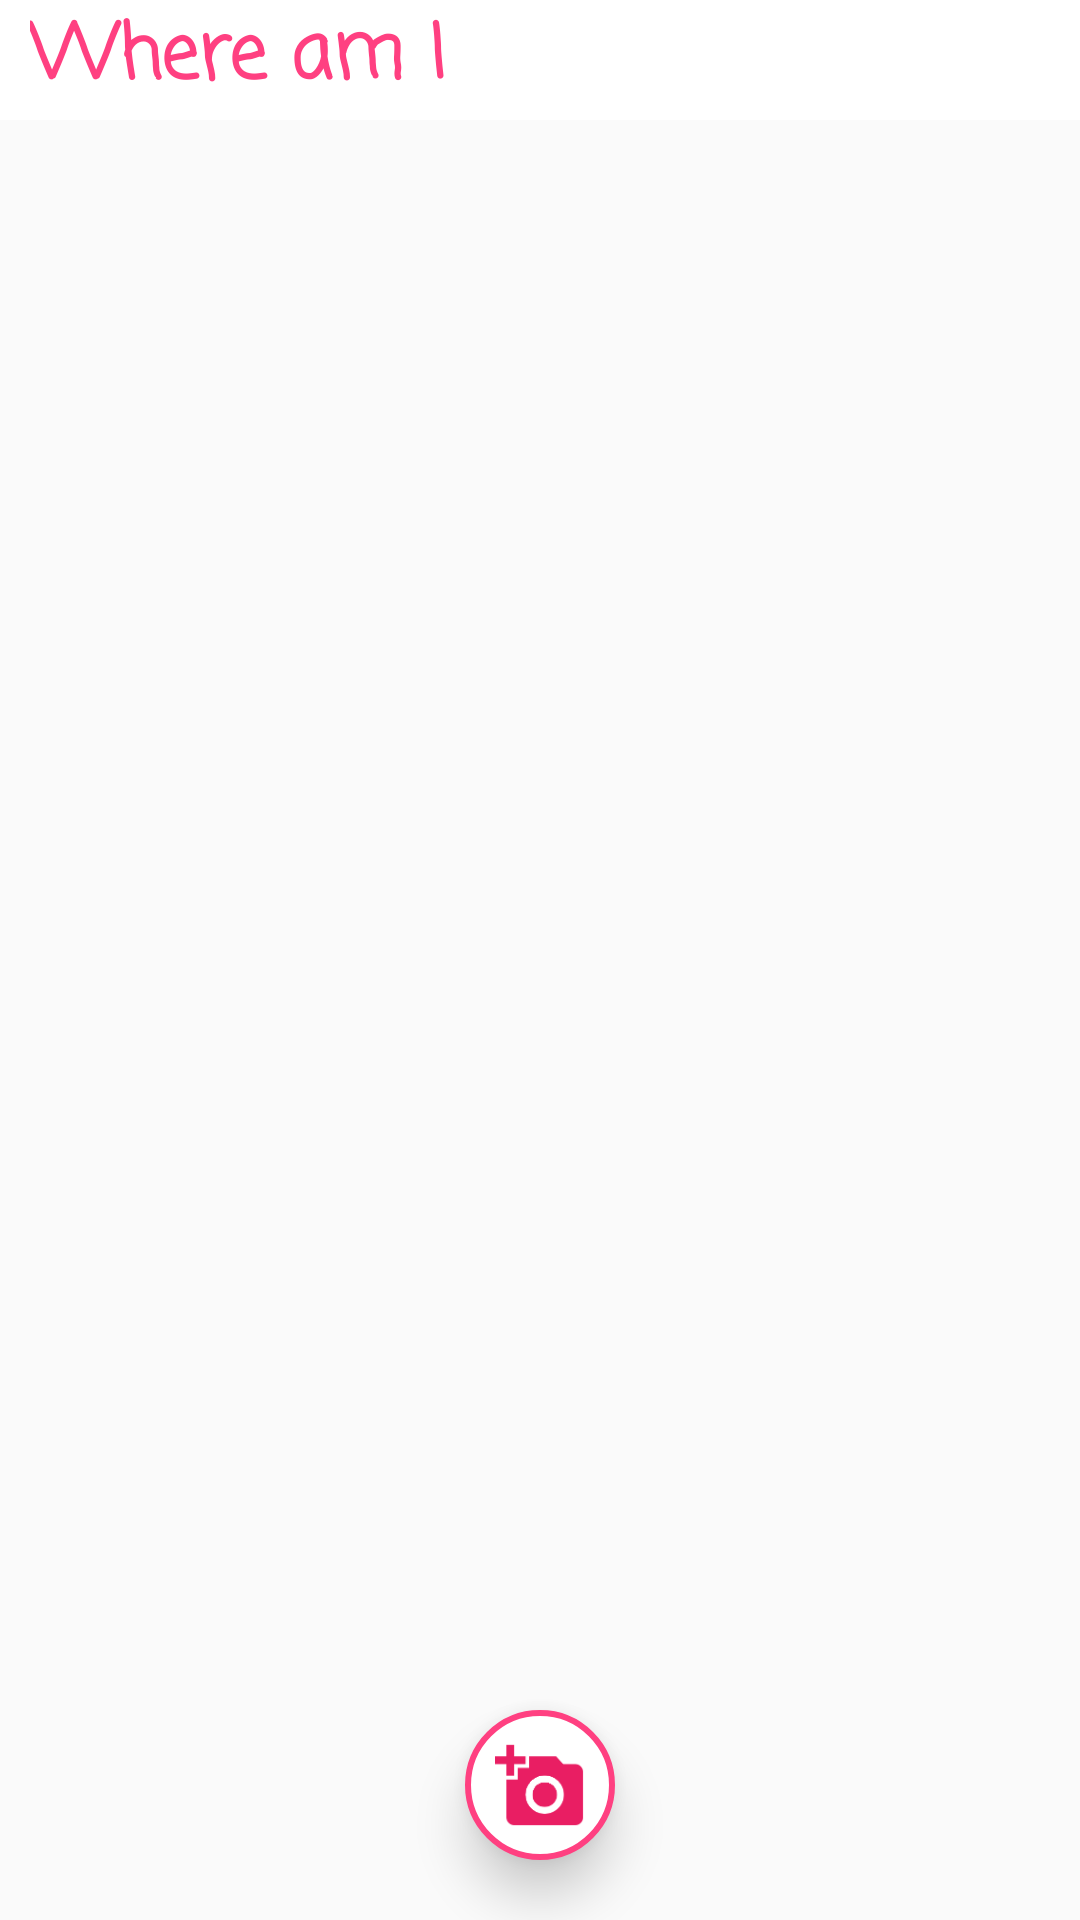

Locate icon controls on the screen. Image size 1080w x 1920h, boxes as [x1=x1, y1=y1, x2=x2, y2=y2].
camera pad: [x1=495, y1=1745, x2=583, y2=1825]
